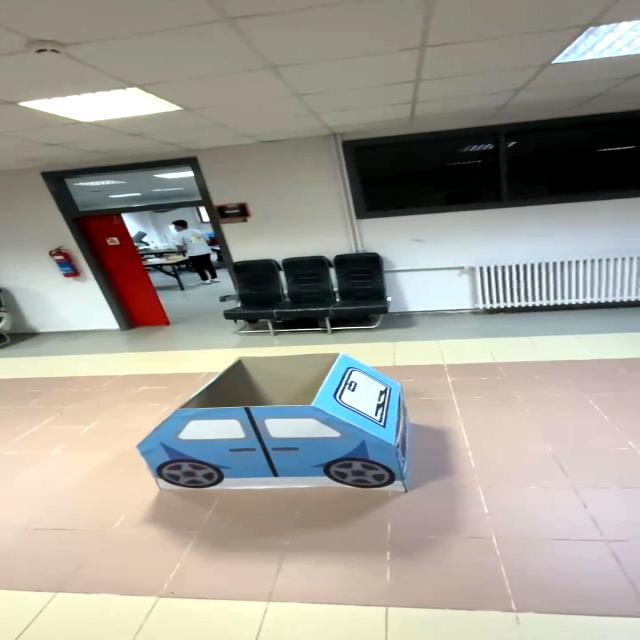blue_car: (94, 333, 455, 518)
